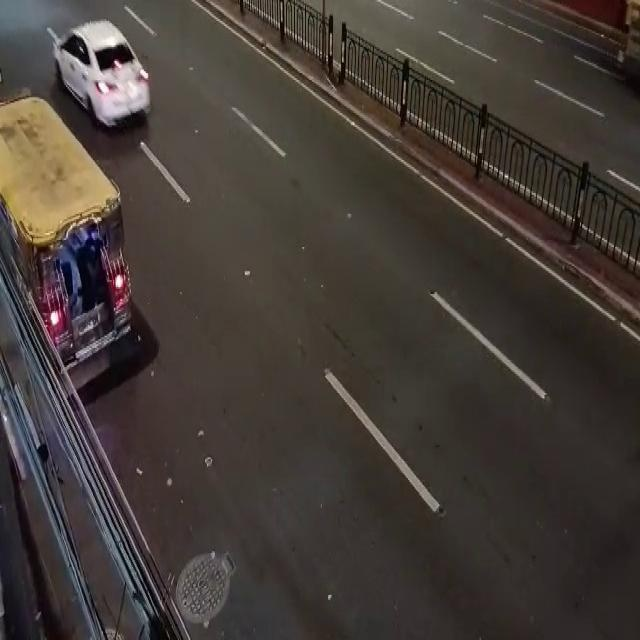car: (53, 13, 149, 121)
jeepney: (5, 92, 639, 417)
